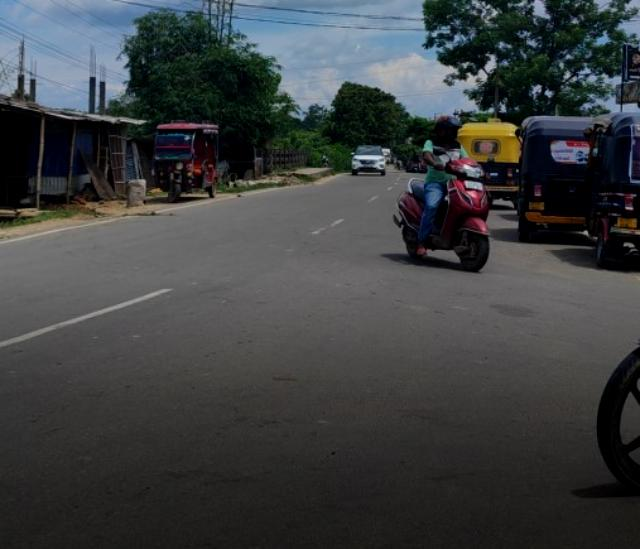licensePlate: (461, 182, 484, 191)
motorcycle: (392, 113, 494, 273)
withHelmet: (433, 113, 466, 144)
